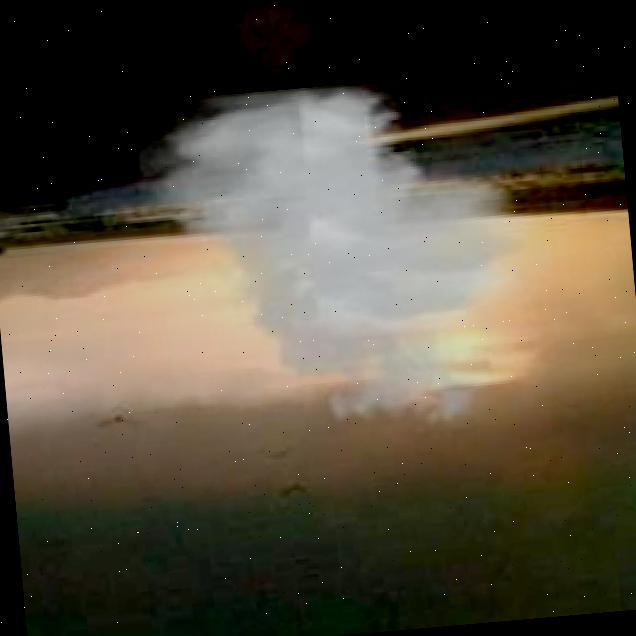smoke: (132, 67, 565, 459)
